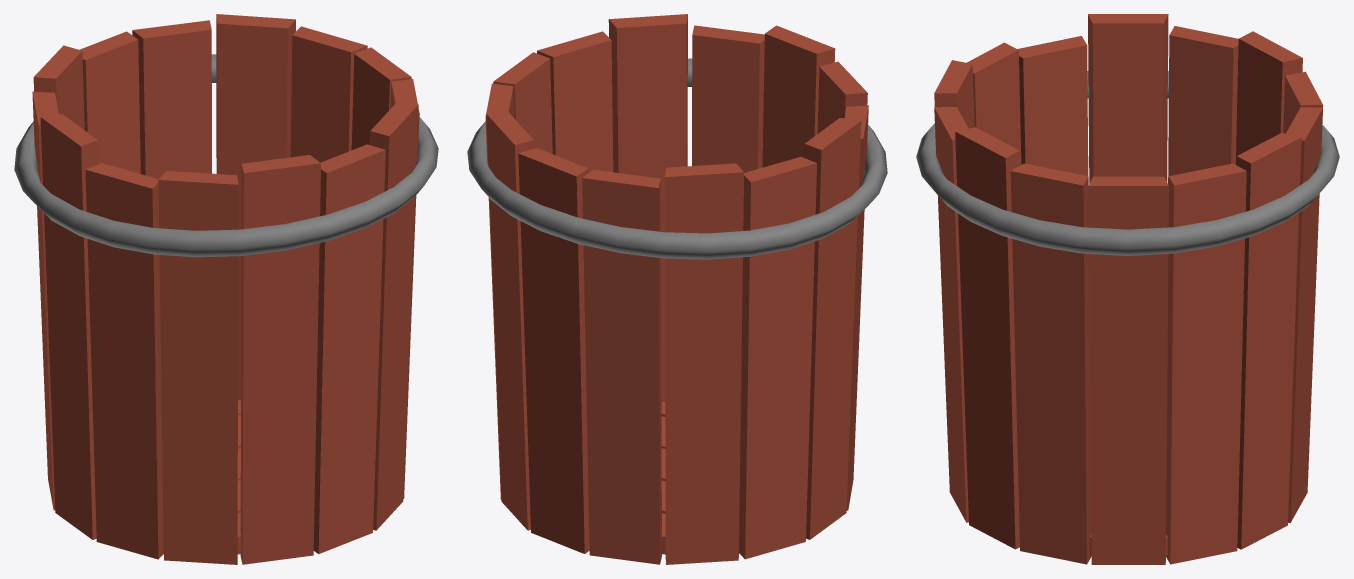
The model's file is SM_bucket.fbx.
3 views of the same model, side by side, from view 1: azimuth 30°, elevation 25°; view 2: azimuth 150°, elevation 25°; view 3: azimuth 270°, elevation 25° (orthographic).
Visible parts, largest first — view 1: Box352; view 2: Box352; view 3: Box352.
Part boxes in pixels (x1,y1,x2,y2): Box352: (14,14,438,564); Box352: (467,14,887,564); Box352: (916,14,1339,564).
Bounding box in the file's own units: 28.15 × 29.07 × 28.15.
